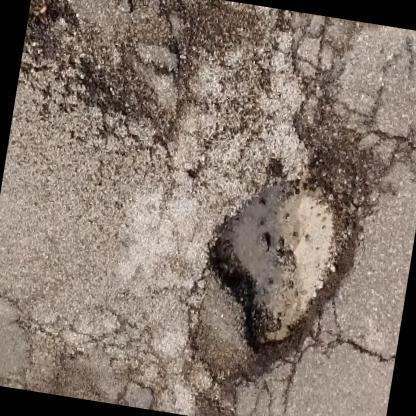pothole: (183, 154, 368, 416), (24, 0, 199, 142)
